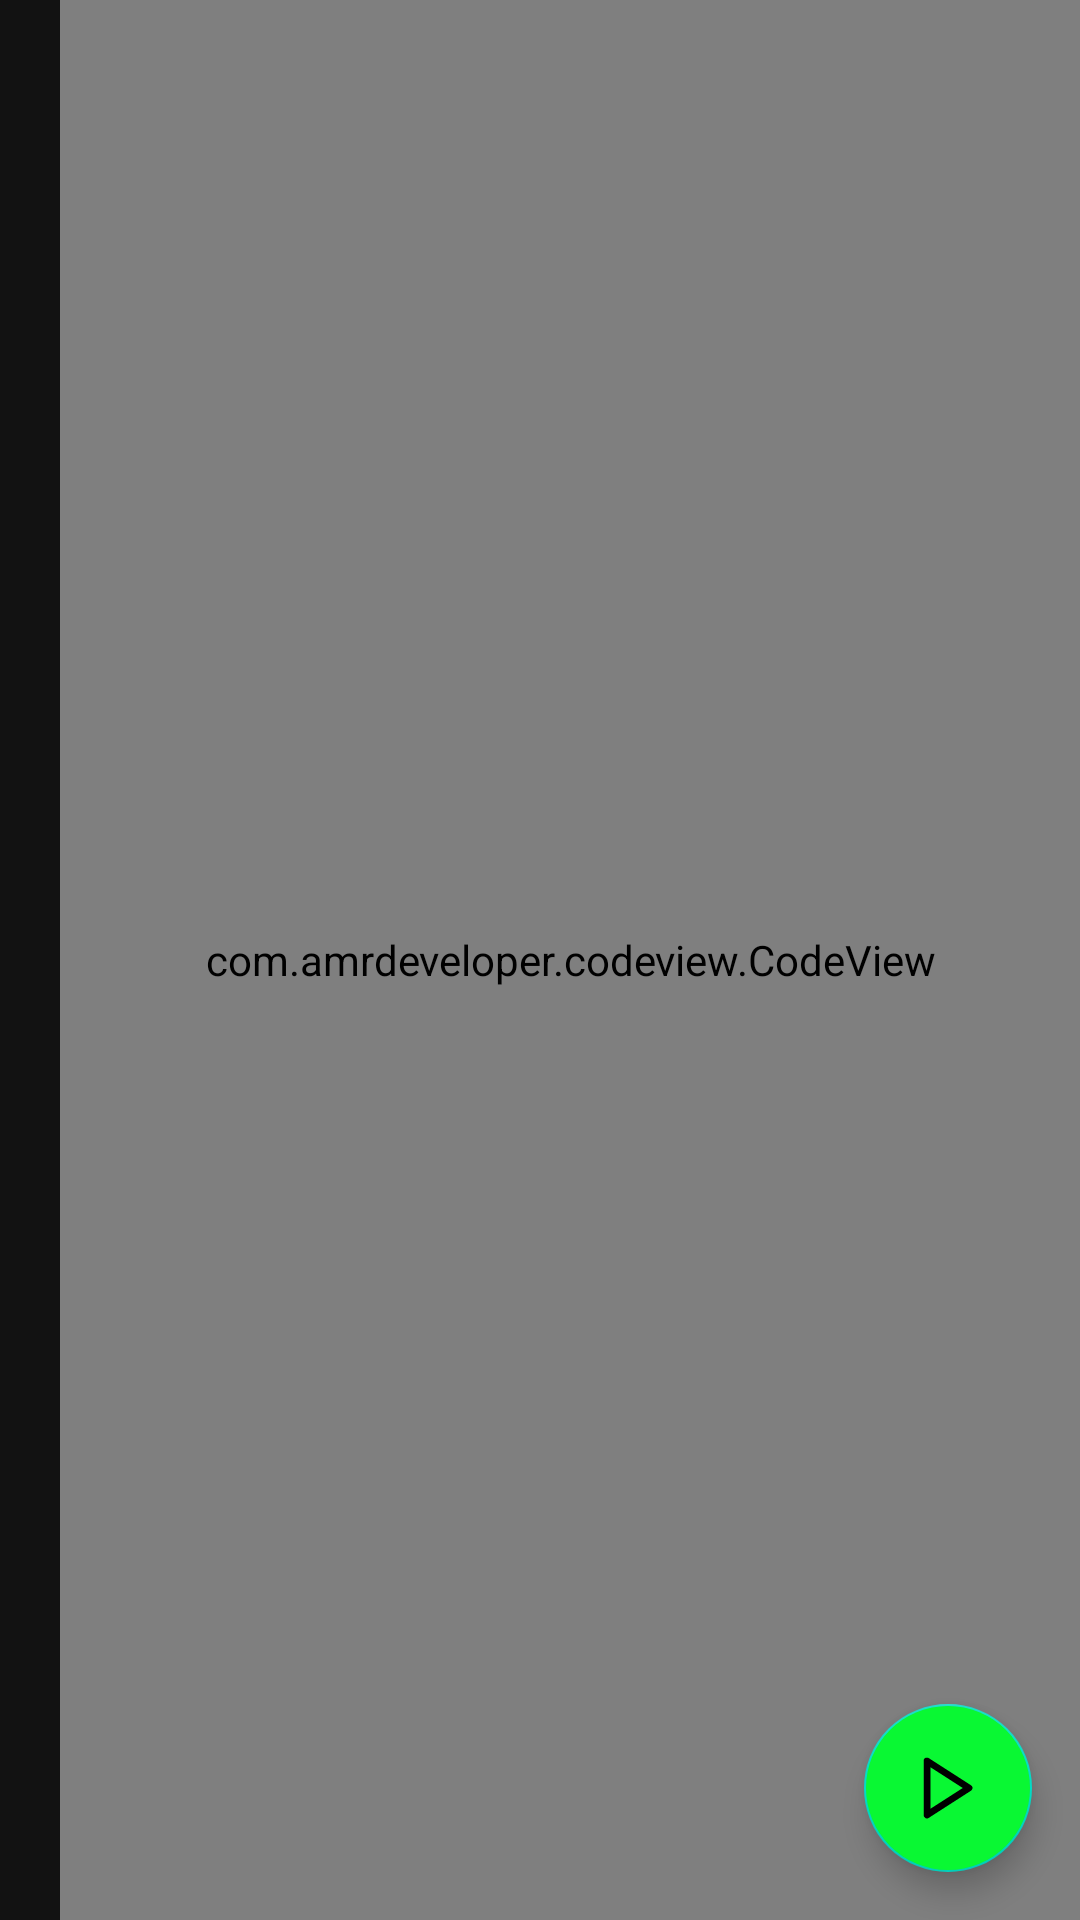

Where icons sit on this 1080 × 1920 app screen, as bbox(x1, y1, x2, y2):
run: bbox(864, 1704, 1032, 1872)
